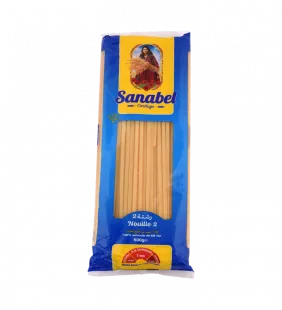SANABEL CARTHAGE: (77, 20, 204, 285)
